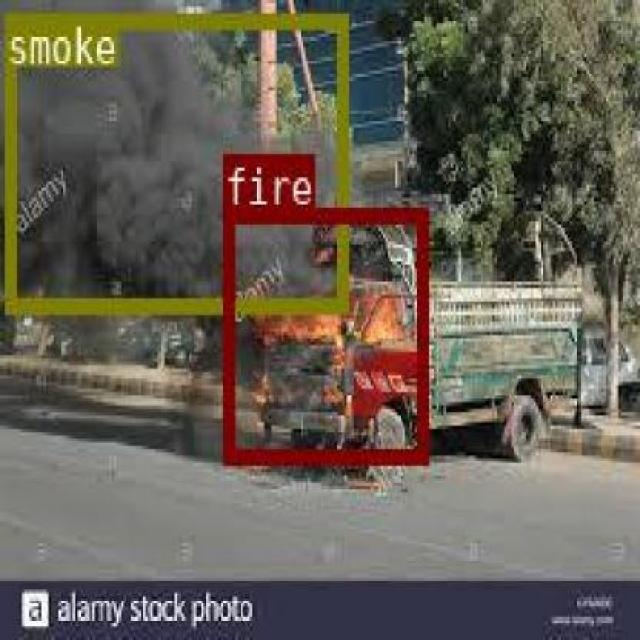Fire: (223, 206, 424, 460)
Smoke: (4, 11, 347, 310)
